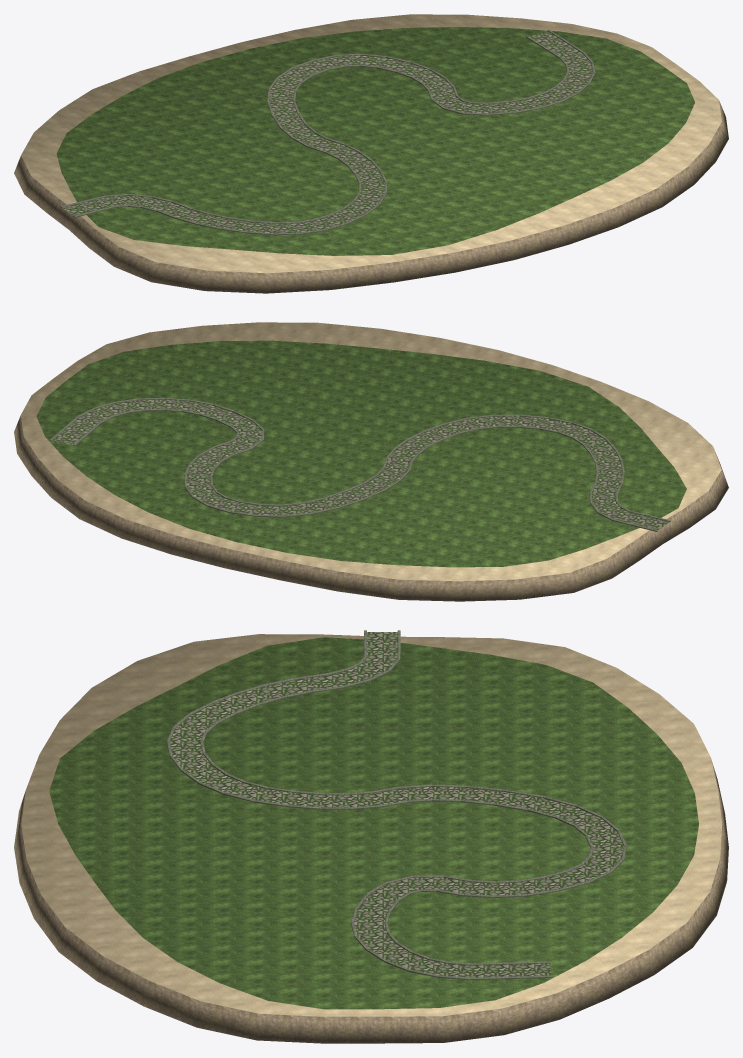
File: 03_OgrodyHesperyd_teren.glb
The picture shows the model from 3 angles, top to bottom: view 1: azimuth 30°, elevation 25°; view 2: azimuth 150°, elevation 25°; view 3: azimuth 270°, elevation 25°; orthographic projection. The views are drawn at different scales.
Parts seen in each view (by area): view 1: garden, island, path_0.002; view 2: garden, island, path_0.002; view 3: garden, island, path_0.002.
Boxes of the visible parts, left/top/right/bottom form: garden: left=56, top=27, right=694, bottom=255; island: left=14, top=14, right=728, bottom=293; path_0.002: left=62, top=31, right=592, bottom=233; garden: left=36, top=340, right=686, bottom=567; island: left=14, top=322, right=728, bottom=601; path_0.002: left=52, top=399, right=669, bottom=530; garden: left=49, top=637, right=698, bottom=1009; island: left=14, top=634, right=728, bottom=1043; path_0.002: left=170, top=632, right=623, bottom=977.
Size of what is drawn, in the model's own units: 219 by 6.44 by 170.
6 materials, 6 textured.
